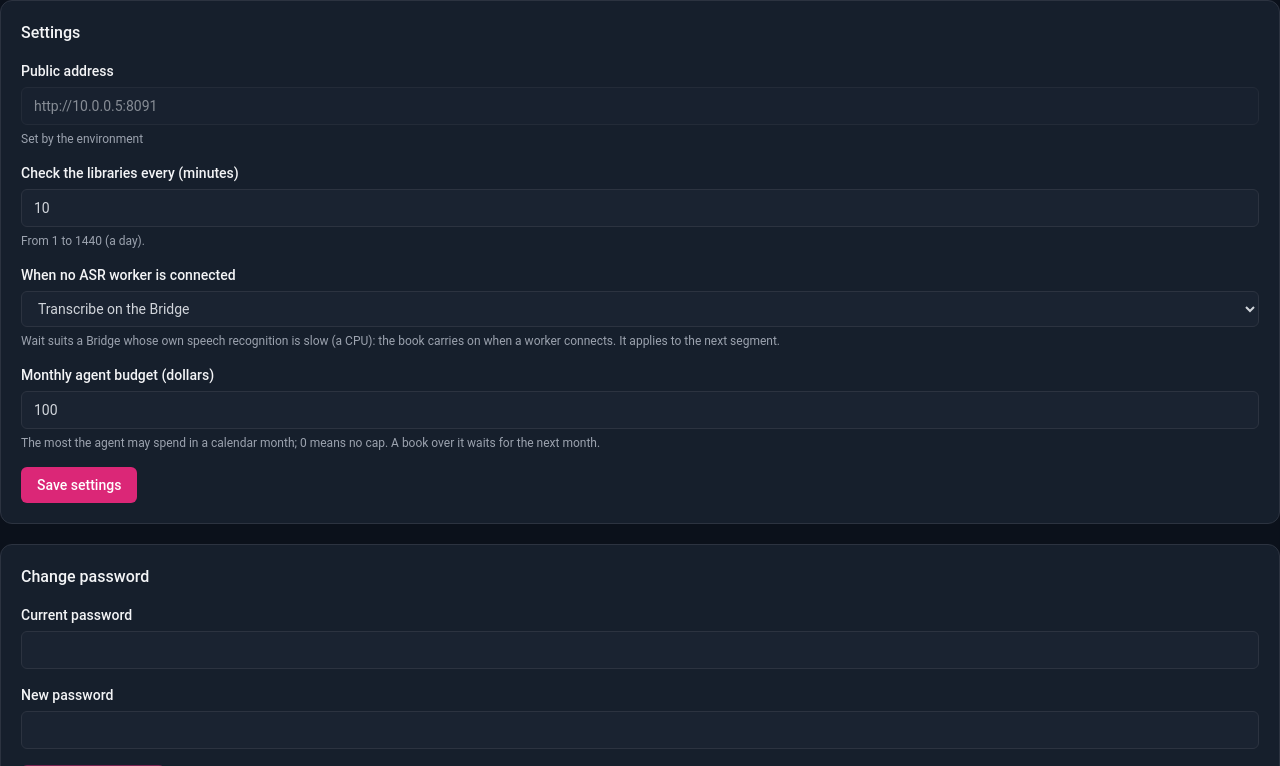
SettingsTab › keeps a locked field read-only and saves the rest
This screenshot has width=1280, height=766.
Expected: the field labelled "Public address" holds "http://10.0.0.5:8091", 21,87 -> 1259,125
Expected: the field labelled "Public address" is disabled, 21,87 -> 1259,125
Replace the text in the number field labelled "Check the libraries every (minutes)" with "5000" at (640, 208), box 21,189 -> 1259,227
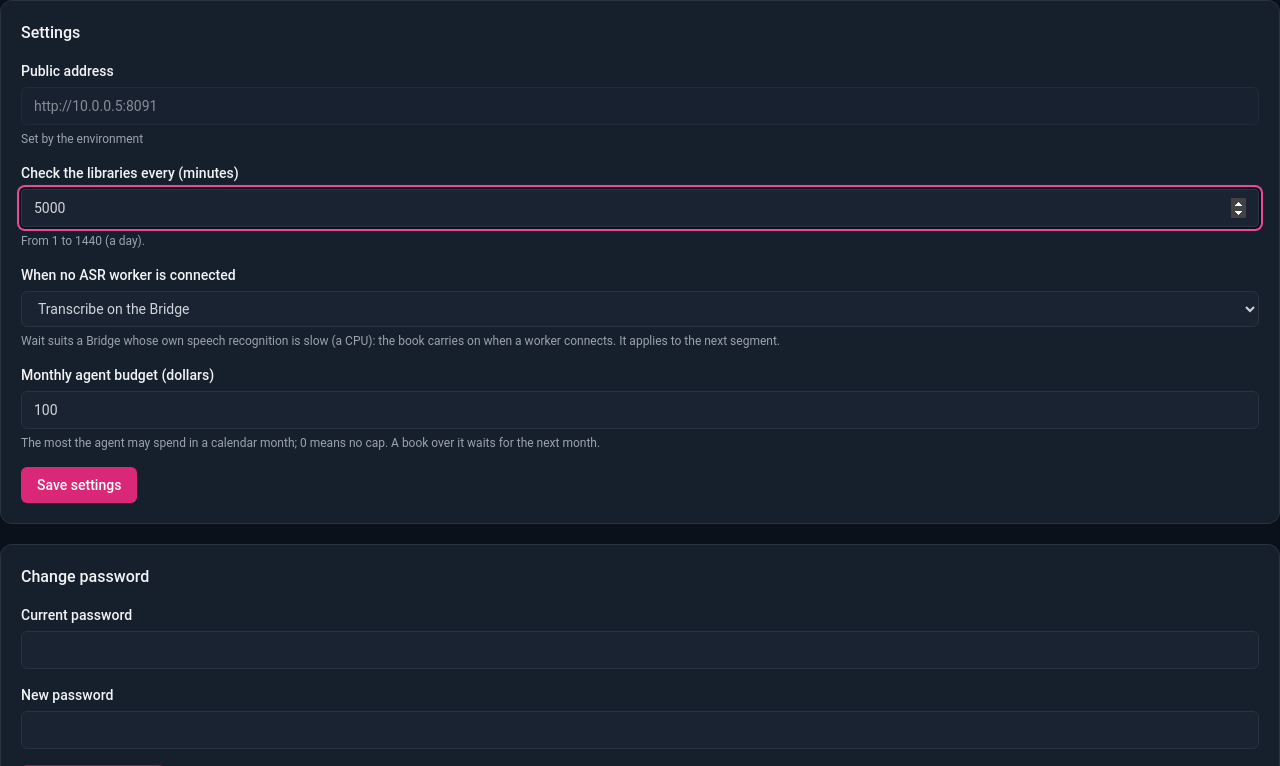
Click the button "Save settings" at (79, 485), box 21,467 -> 137,503
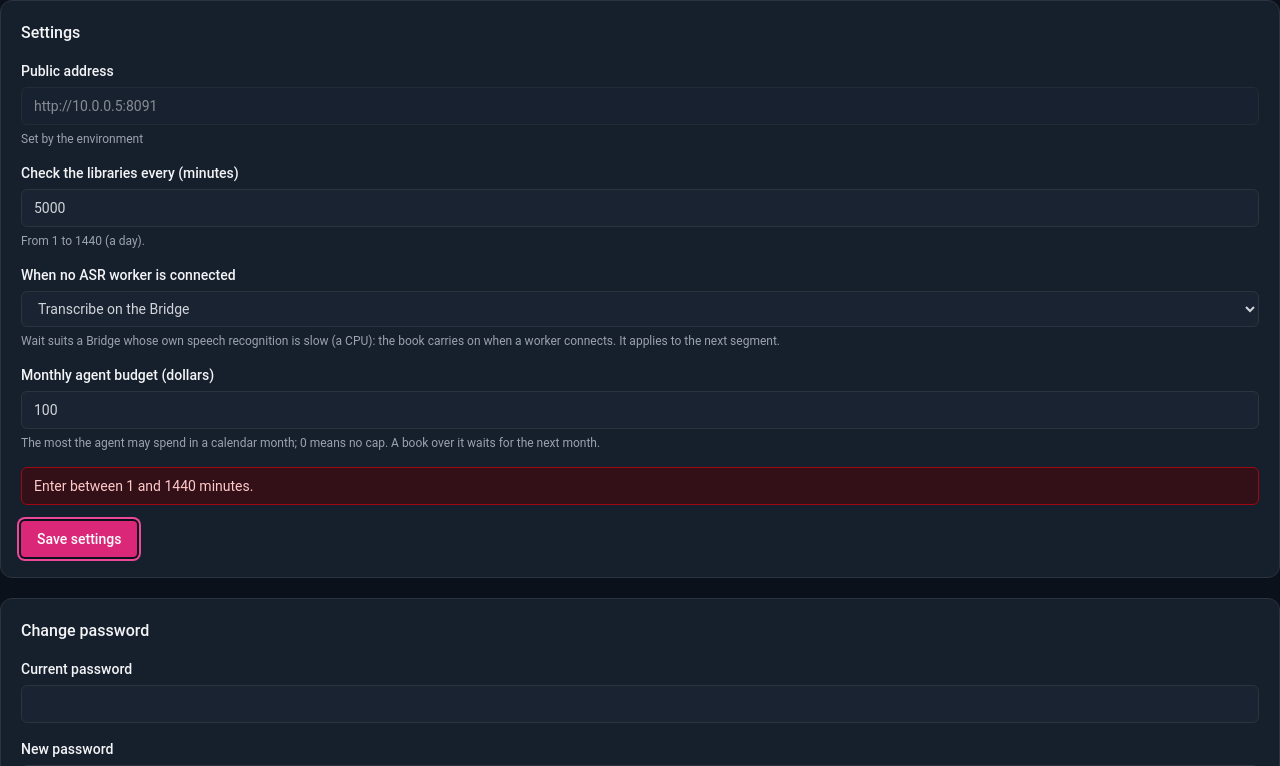
Now the message reads "Enter between 1 and 1440 minutes.", box 34,478 -> 253,494
Replace the text in the number field labelled "Check the libraries every (minutes)" with "30" at (640, 208), box 21,189 -> 1259,227
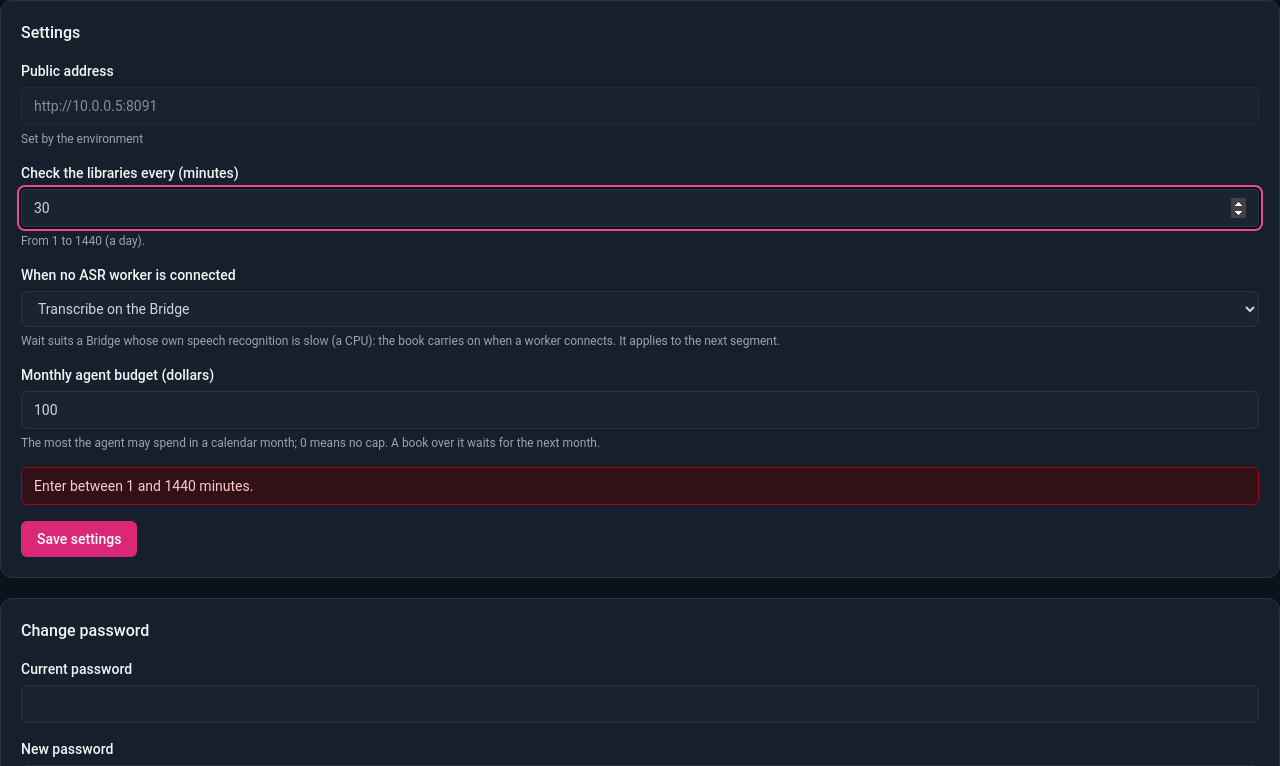
Click the button "Save settings" at (79, 539), box 21,521 -> 137,557
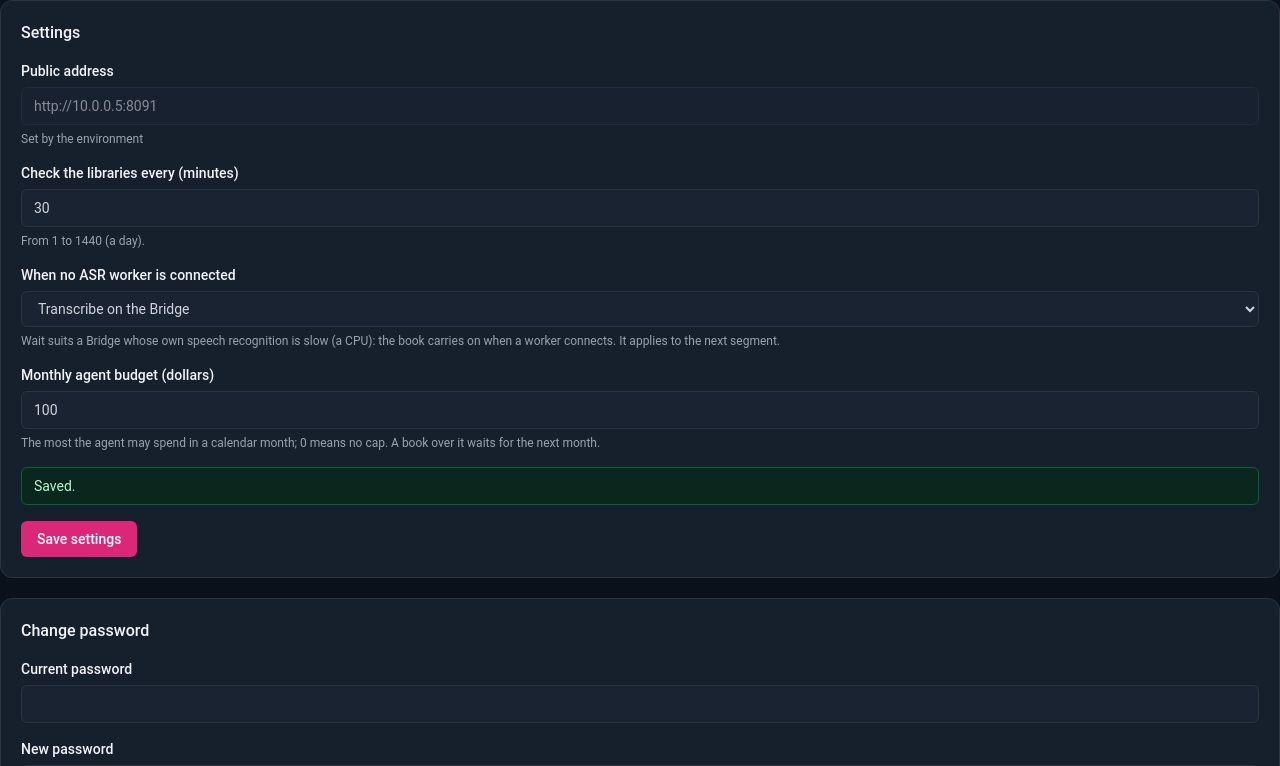
Now the text "Saved." is shown, box 21,467 -> 1259,505
